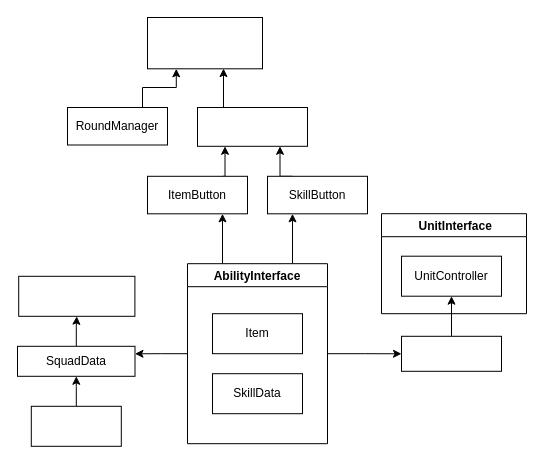
This 544x464 diagram has some shape labels left out. Each missing label, with the centre of its shape:
"BattleController" belongs at point 204,42.
"PanelController" belongs at point 252,126.
"SaveDataManager" belongs at point 76,295.
"UnitData" belongs at point 451,353.
"UnitSaveData" belongs at point 75,425.
